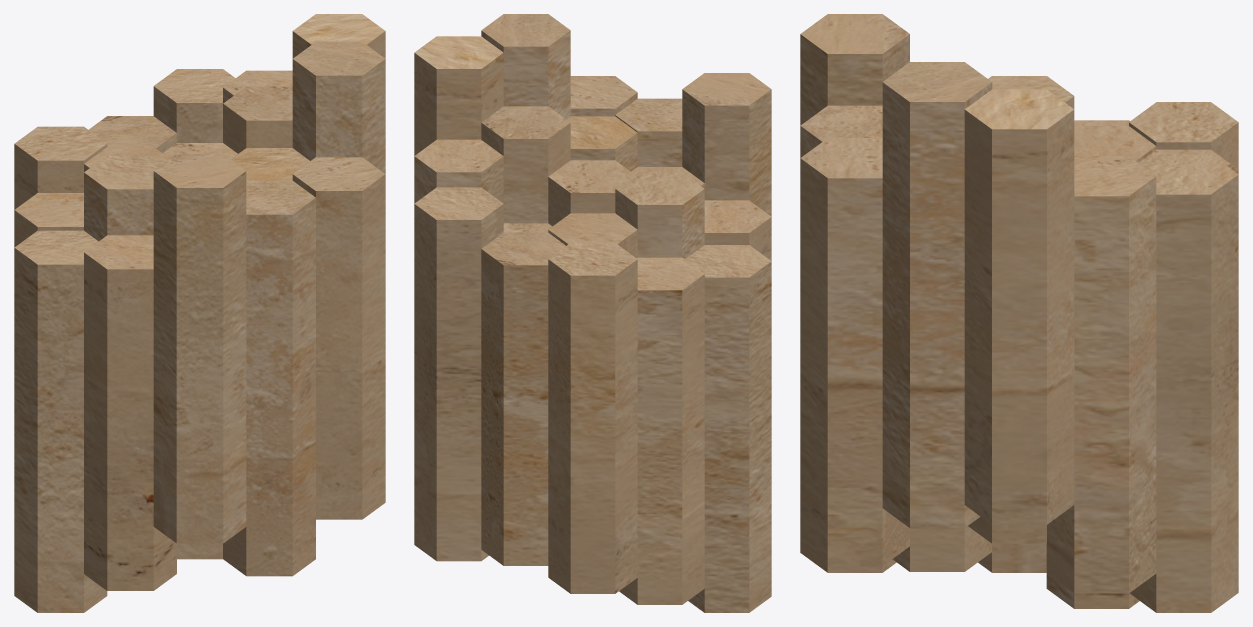
Rendered from hex-cylinder-ripple.glb.
3 renders of one model, left to right at view 1: azimuth 30°, elevation 25°; view 2: azimuth 150°, elevation 25°; view 3: azimuth 270°, elevation 25°, orthographic. The views are drawn at different scales.
Visible parts, largest first — view 1: WEB_EXPORT_HexCylinder; view 2: WEB_EXPORT_HexCylinder; view 3: WEB_EXPORT_HexCylinder.
Boxes of the visible parts, left/top/right/bottom form: WEB_EXPORT_HexCylinder: left=14, top=14, right=385, bottom=612; WEB_EXPORT_HexCylinder: left=414, top=14, right=771, bottom=612; WEB_EXPORT_HexCylinder: left=800, top=14, right=1238, bottom=612.
Size of the model in its own units: 4.15 by 5.74 by 3.84.
Materials: 1 (1 with a texture image).
